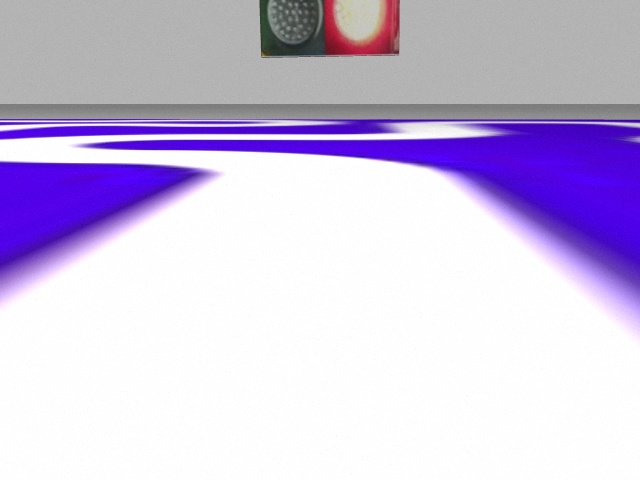red: (324, 1, 400, 54)
